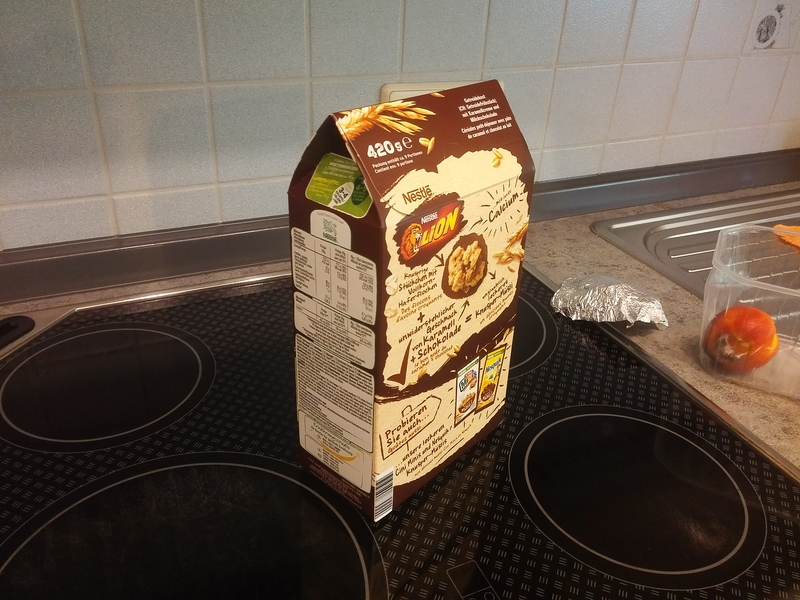cereals: (288, 78, 536, 523)
